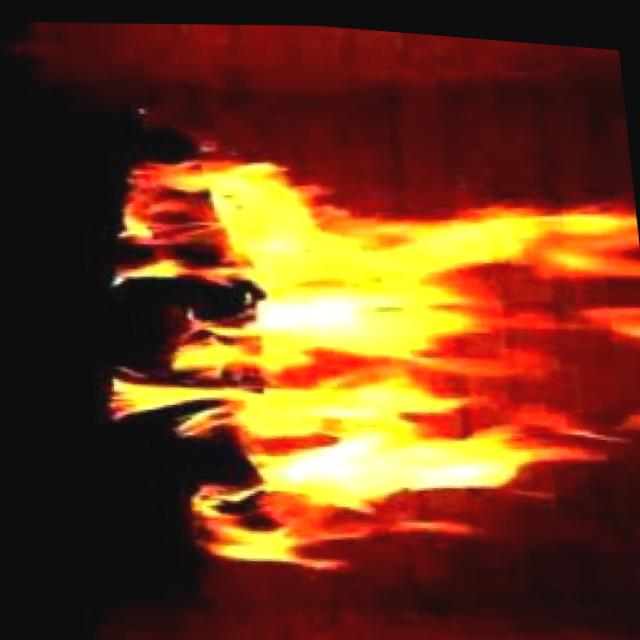helmet: (65, 94, 640, 610)
